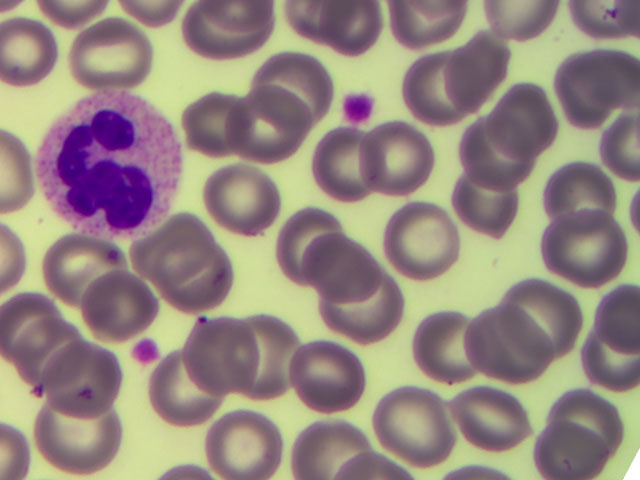Platelets: (344, 91, 374, 124), (135, 340, 158, 362)
RBC: (463, 304, 552, 378), (38, 391, 120, 471), (501, 281, 579, 365), (542, 212, 629, 287), (319, 267, 402, 344), (226, 318, 300, 399), (225, 85, 303, 161), (304, 231, 381, 305), (182, 321, 259, 394), (277, 211, 350, 288), (41, 344, 120, 415), (384, 205, 458, 279), (255, 53, 327, 128), (406, 51, 476, 128), (68, 26, 159, 85), (377, 388, 452, 459), (294, 343, 371, 412), (182, 6, 276, 62), (545, 394, 628, 457), (444, 34, 511, 112), (313, 129, 382, 204), (207, 167, 282, 235), (451, 389, 531, 452), (206, 415, 283, 480), (47, 239, 123, 304), (361, 126, 433, 194), (547, 167, 620, 234), (465, 120, 533, 191), (455, 164, 520, 238), (291, 417, 366, 480), (79, 278, 158, 337), (411, 311, 479, 379), (159, 242, 231, 305), (14, 323, 87, 385), (153, 357, 220, 424), (496, 88, 560, 158), (534, 419, 608, 478), (135, 224, 213, 278), (566, 51, 640, 107), (183, 91, 247, 153), (1, 298, 60, 365), (1, 21, 56, 89), (321, 5, 386, 59), (587, 324, 640, 389), (388, 1, 458, 45), (596, 286, 640, 351), (280, 1, 344, 45), (1, 126, 32, 216), (484, 1, 550, 43), (603, 107, 640, 180), (571, 1, 636, 41), (195, 1, 274, 33), (339, 453, 405, 480), (1, 224, 26, 294), (1, 425, 31, 480), (39, 1, 104, 23), (120, 1, 182, 24)
WBC: (36, 85, 182, 235)
